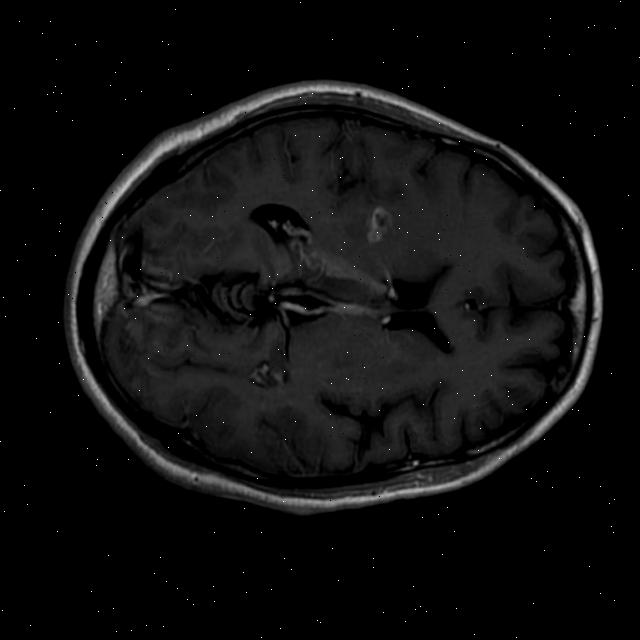Glioma: (366, 206, 394, 243)
